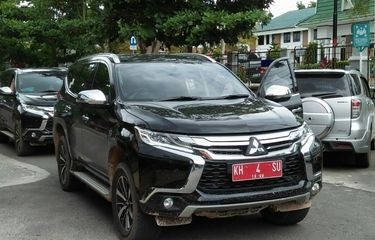plat nomor: (229, 158, 285, 183)
